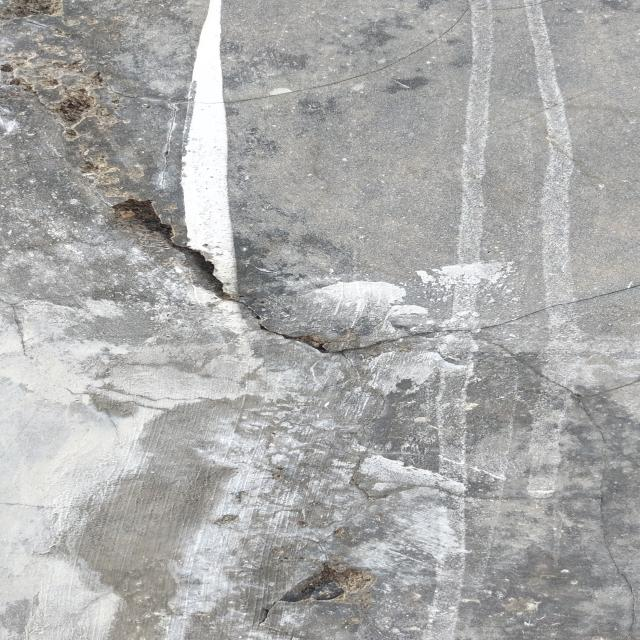Crack: (35, 75, 634, 415)
